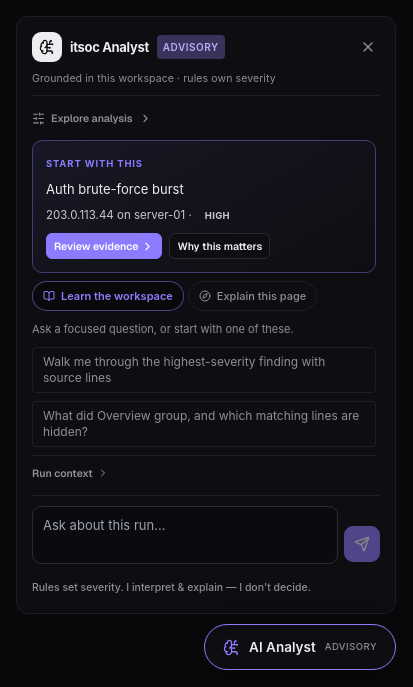
Test: CB-1 — learned second opinion in the copilot rail › does NOT recompute agreement at display time — a stored agrees=true is shown even when the severities differ
Type "What does the learned model say about inc-2c97?" into the text box at (185, 535), box [32,506,338,564]
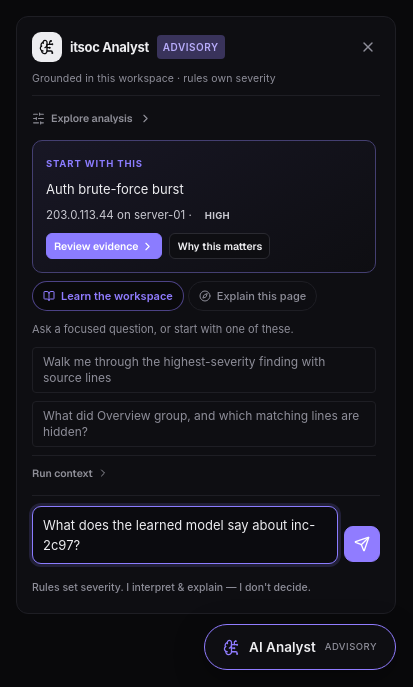
Click the button named "send" at (362, 544), box [344,526,380,562]
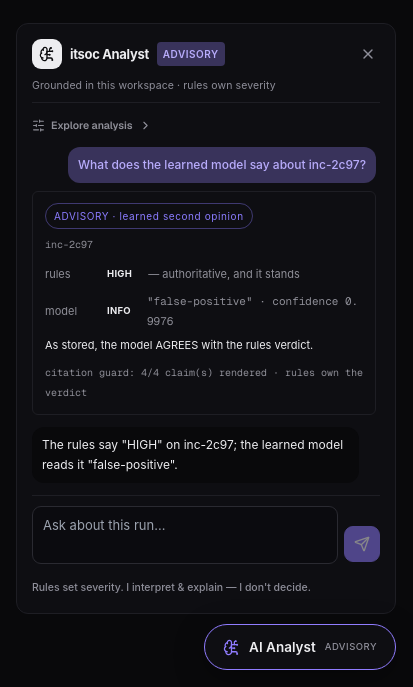
Check: the text with test id "copilot-learned-agreement" shows "model AGREES", box [45,338,313,352]
